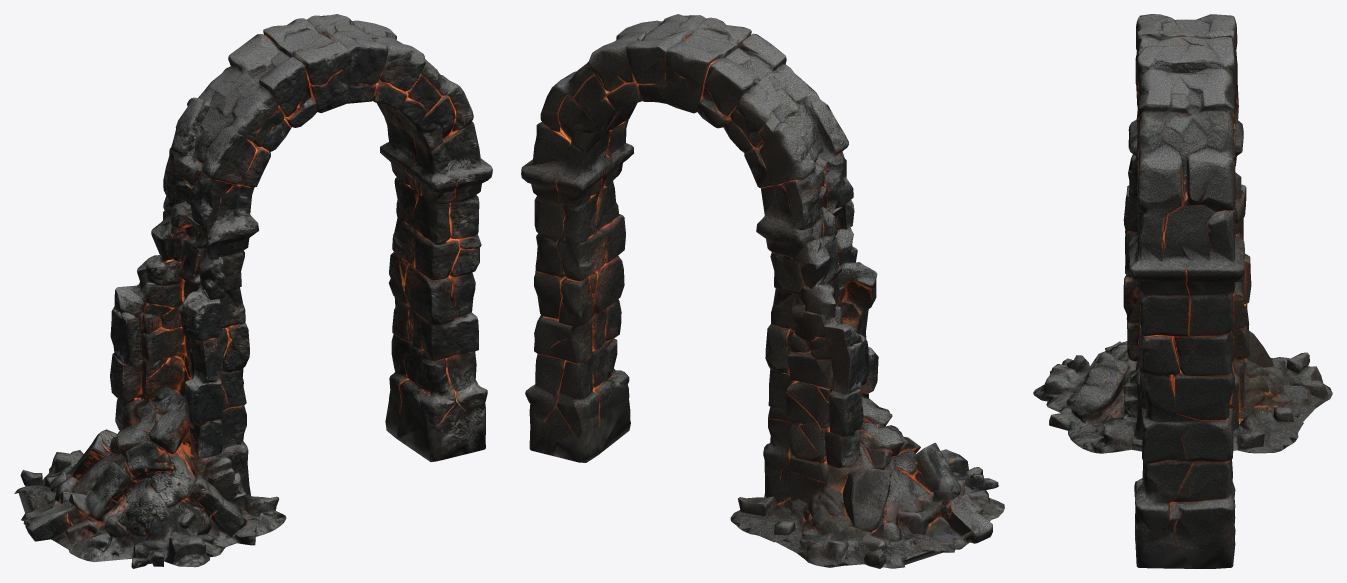
3 views of the same model, side by side, from view 1: azimuth 30°, elevation 25°; view 2: azimuth 150°, elevation 25°; view 3: azimuth 270°, elevation 25° (orthographic). The views are drawn at different scales.
Visible parts, largest first — view 1: mesh_node; view 2: mesh_node; view 3: mesh_node.
Boxes of the visible parts, bbox=[...] form: mesh_node: bbox=[14, 14, 492, 568]; mesh_node: bbox=[521, 14, 1004, 568]; mesh_node: bbox=[1033, 14, 1332, 568].
Size of the model in its own units: 1.9 by 1.79 by 1.05.
1 material, 1 textured.
